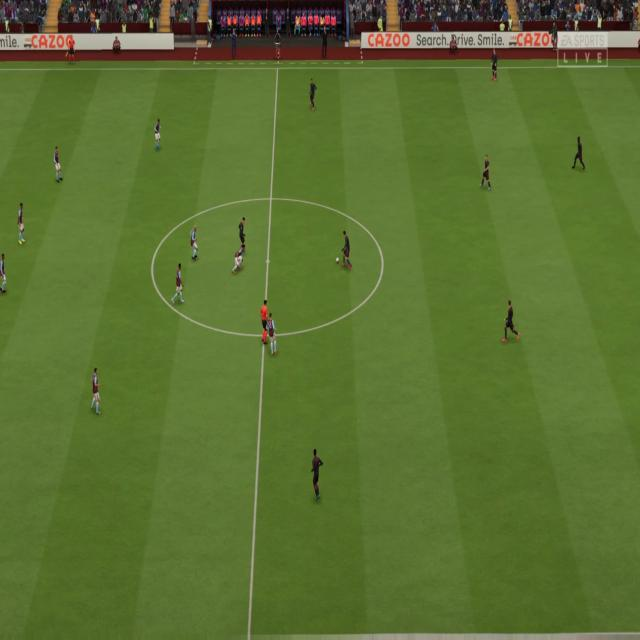Ball: (336, 257, 340, 264)
Referee: (260, 299, 269, 346)
Team-A: (310, 448, 324, 503), (502, 300, 520, 342), (572, 138, 588, 172), (478, 154, 492, 192), (341, 231, 354, 271), (238, 216, 247, 253), (308, 79, 318, 112), (490, 51, 499, 81)
Team-H: (265, 312, 279, 356), (171, 264, 185, 304), (90, 368, 101, 416), (16, 202, 26, 247), (231, 244, 246, 274), (190, 225, 201, 260), (54, 146, 64, 184), (154, 118, 164, 152), (0, 251, 7, 295)
